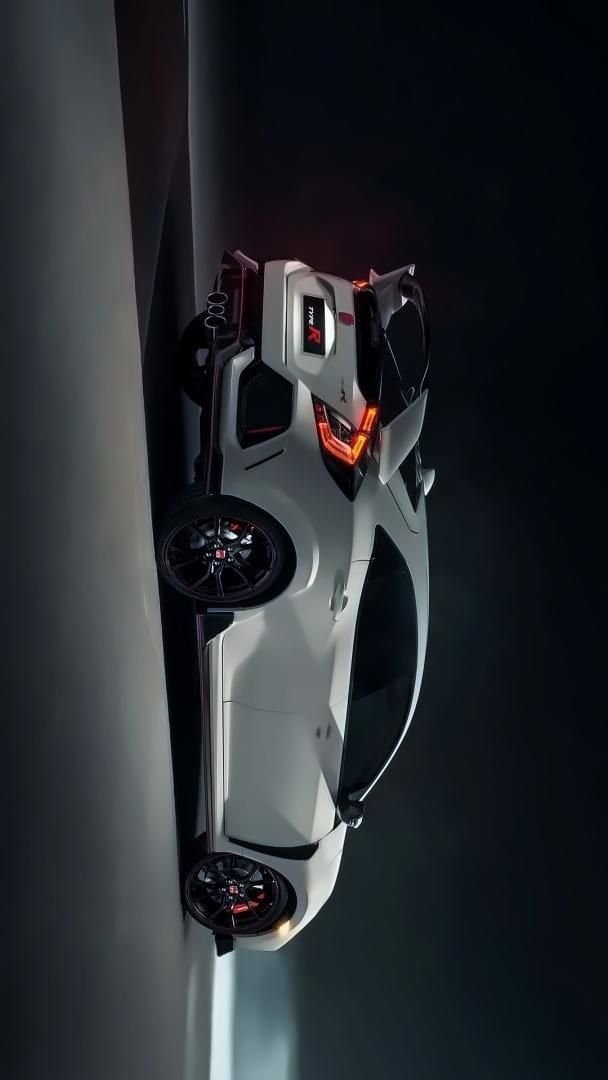Car boot: (247, 255, 390, 437)
Driver-s door - -F-R-: (224, 707, 410, 848)
Fender - -F-R-: (214, 825, 354, 916)
Fender - -R-R-: (267, 466, 415, 592)
Front bumper: (212, 917, 324, 973)
Passenger-s door - -R-R-: (221, 555, 434, 707)
Rear bumper: (199, 235, 307, 510)
Rear light - -L-: (344, 269, 381, 313)
Rear light - -R-: (299, 384, 387, 506)
Side bumper - -R-: (189, 594, 231, 864)
Side mirror - -R-: (324, 792, 383, 837)
